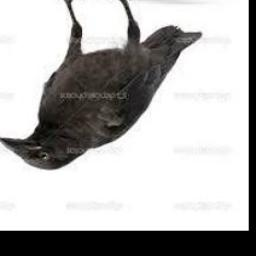Crow: (0, 0, 203, 171)
